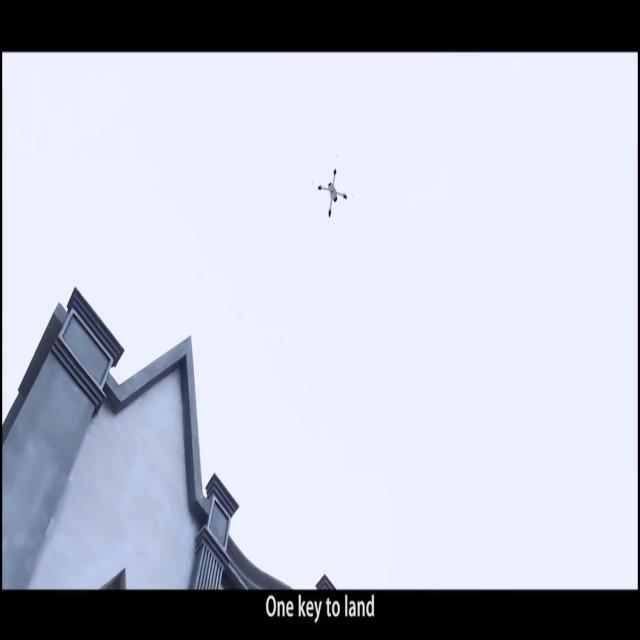drone: (318, 167, 350, 220)
